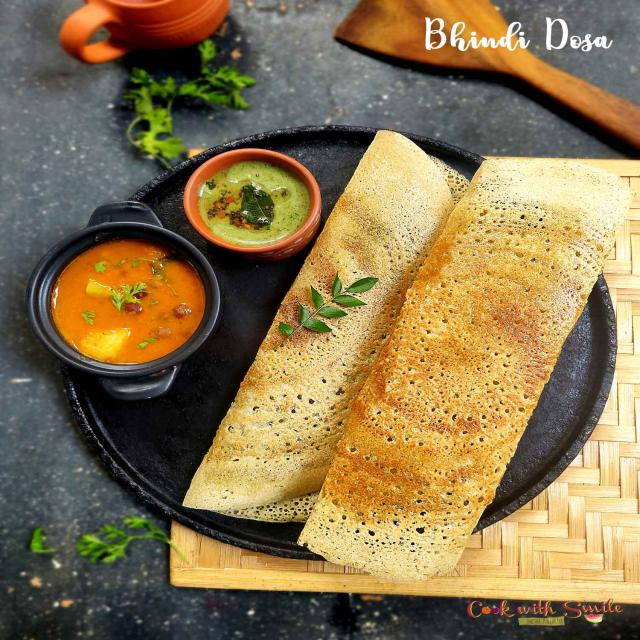dosa: (298, 150, 640, 600), (213, 118, 491, 531)
